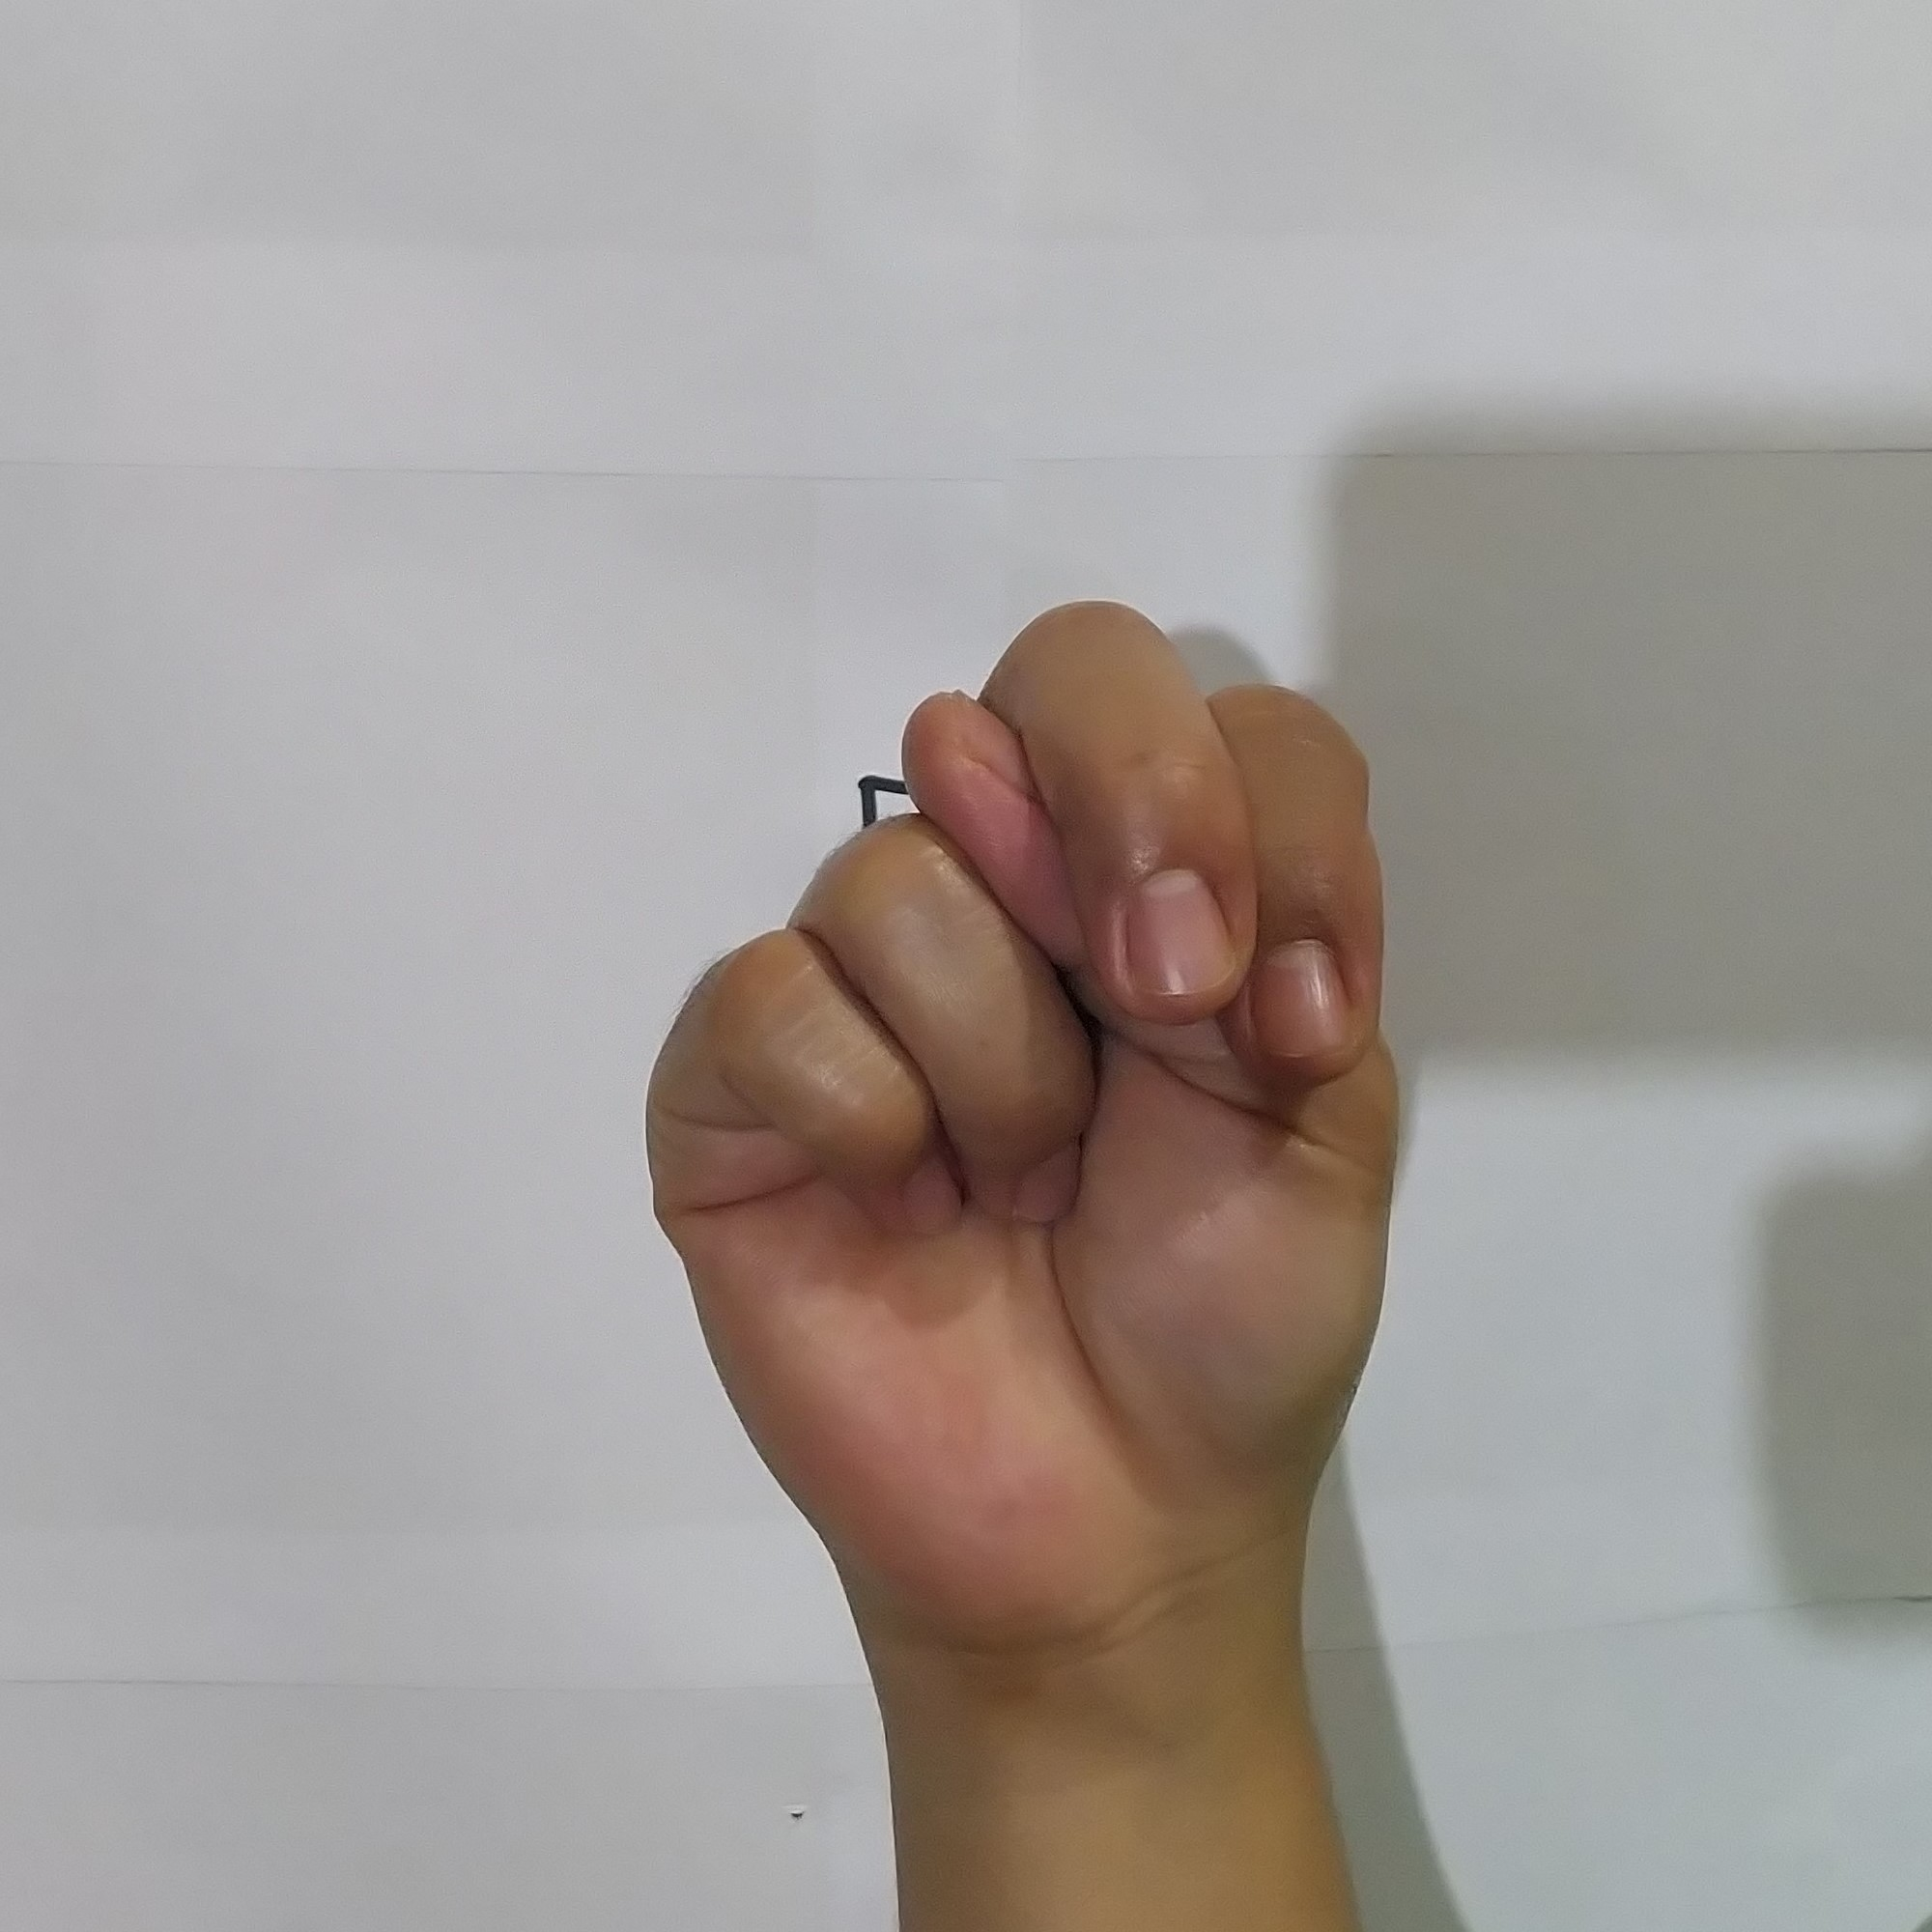N: (614, 564, 1435, 1614)
